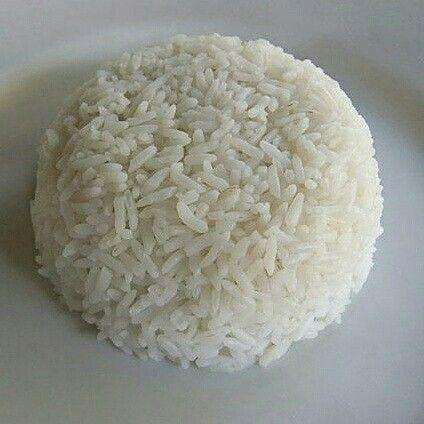makanan_berpati: (126, 52, 297, 335)
